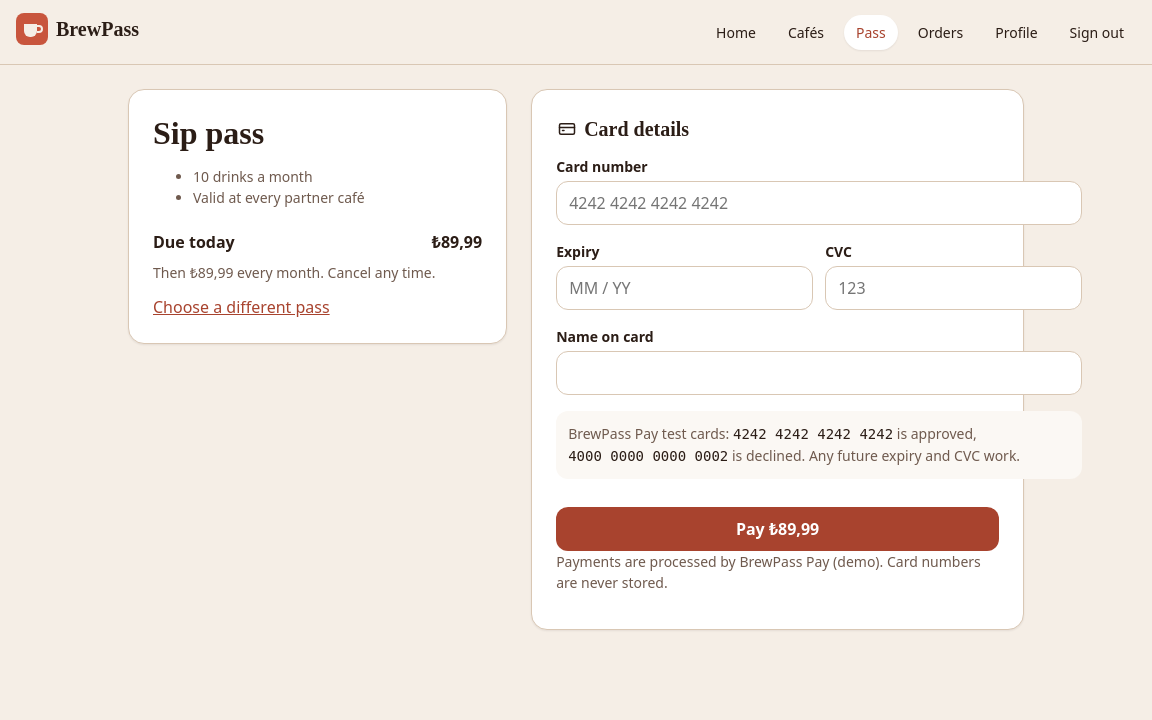
choosing and buying a pass › checks the card before sending it
This screenshot has width=1152, height=720.
Expected: the heading "Sip pass" is shown, [153,115,264,151]
In the field labelled "Card number": (819, 203) [556,181,1082,225], type "4242424242424241"
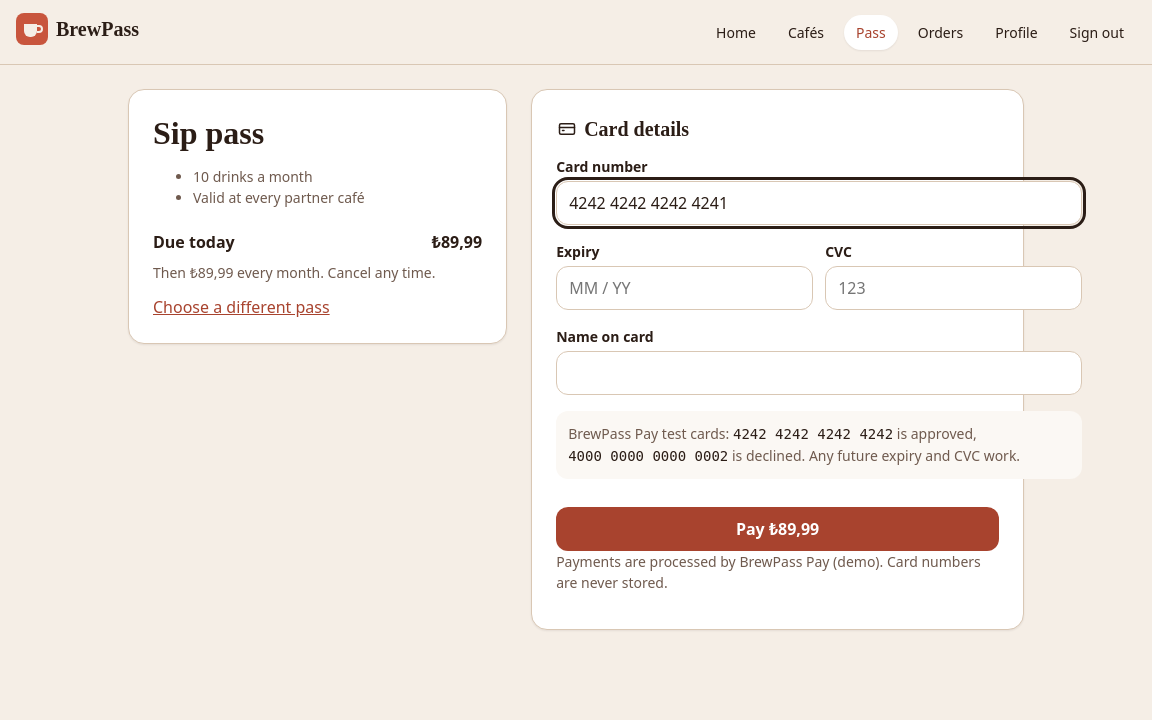
Click the button "Pay ₺89,99": (778, 529) [556,507,999,551]
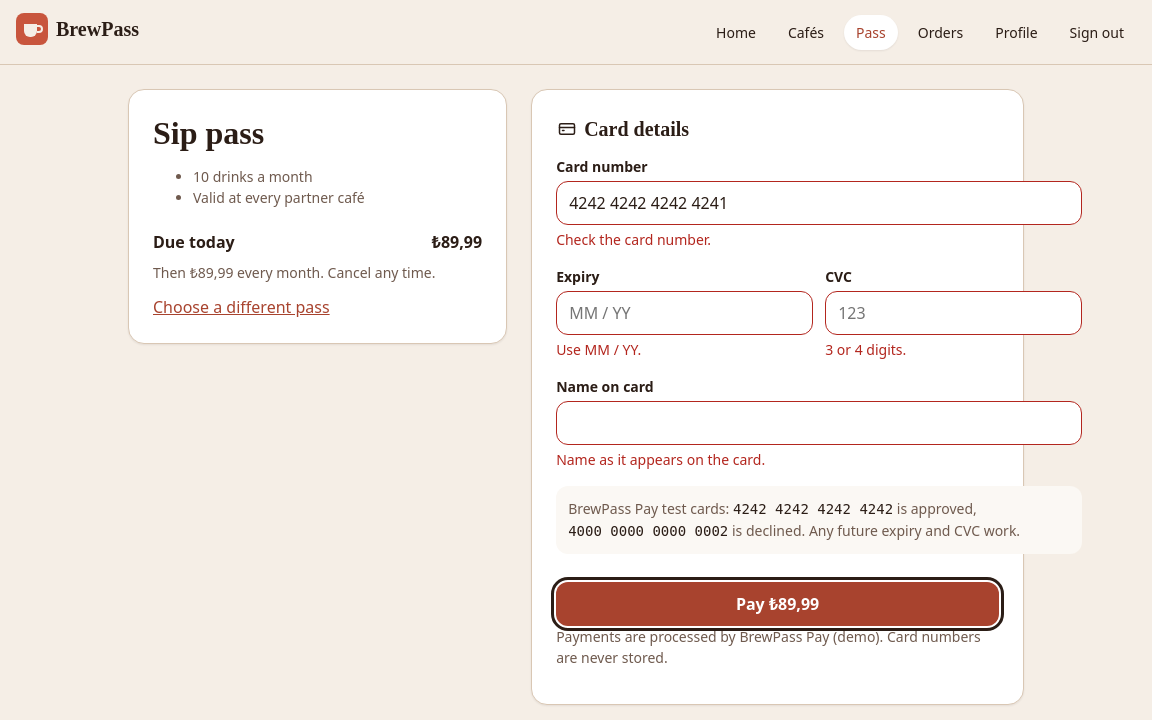
Expected: the text "Check the card number." is shown, [556,230,711,249]
